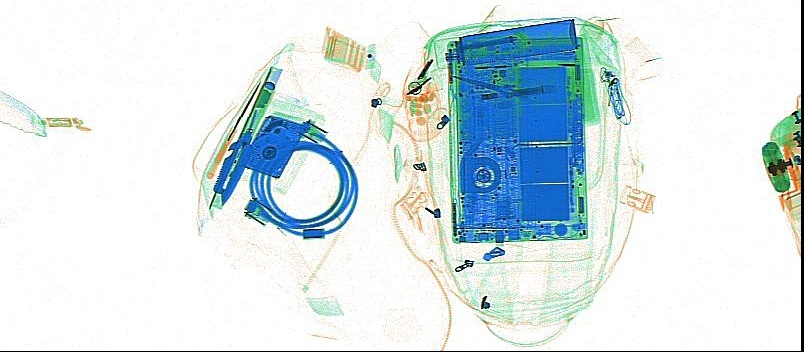knife: (211, 80, 275, 206), (205, 77, 262, 180)
pressure: (432, 16, 578, 70)
scissors: (450, 73, 529, 97)
